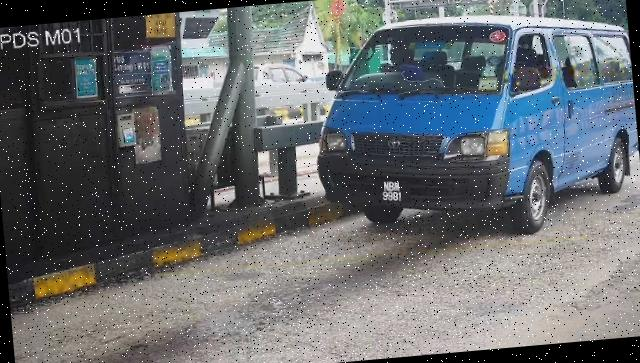License_Plate: (379, 177, 407, 208)
van: (306, 1, 640, 253)
